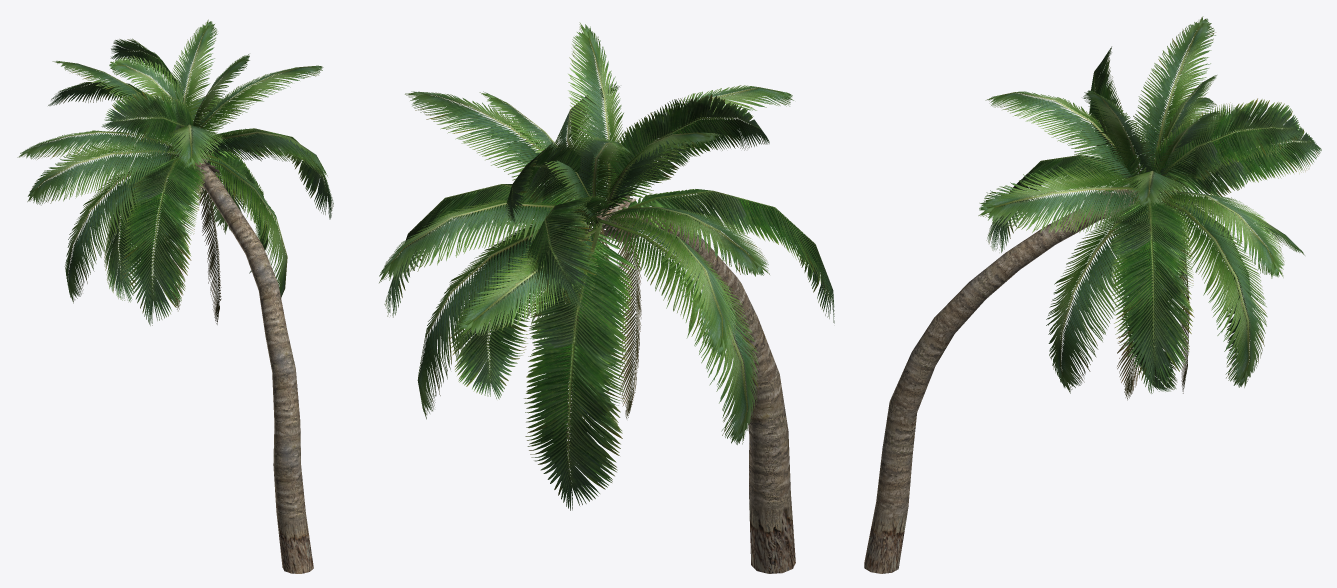
The model's file is palmTree1.FBX.
3 views of the same model, side by side, from view 1: azimuth 30°, elevation 25°; view 2: azimuth 150°, elevation 25°; view 3: azimuth 270°, elevation 25° (orthographic). The views are drawn at different scales.
Visible parts, largest first — view 1: polySurface343, polySurface234_polySurface63; view 2: polySurface343, polySurface234_polySurface63; view 3: polySurface343, polySurface234_polySurface63.
Part boxes in pixels (x1=…): polySurface343: x1=17, y1=19, x2=333, y2=325; polySurface234_polySurface63: x1=191, y1=160, x2=313, y2=573; polySurface343: x1=379, y1=22, x2=834, y2=510; polySurface234_polySurface63: x1=593, y1=203, x2=795, y2=573; polySurface343: x1=978, y1=16, x2=1321, y2=400; polySurface234_polySurface63: x1=864, y1=188, x2=1149, y2=573.
Size of the model in its own units: 21.24 by 30.79 by 25.3.
Materials: 2 (2 with a texture image).
